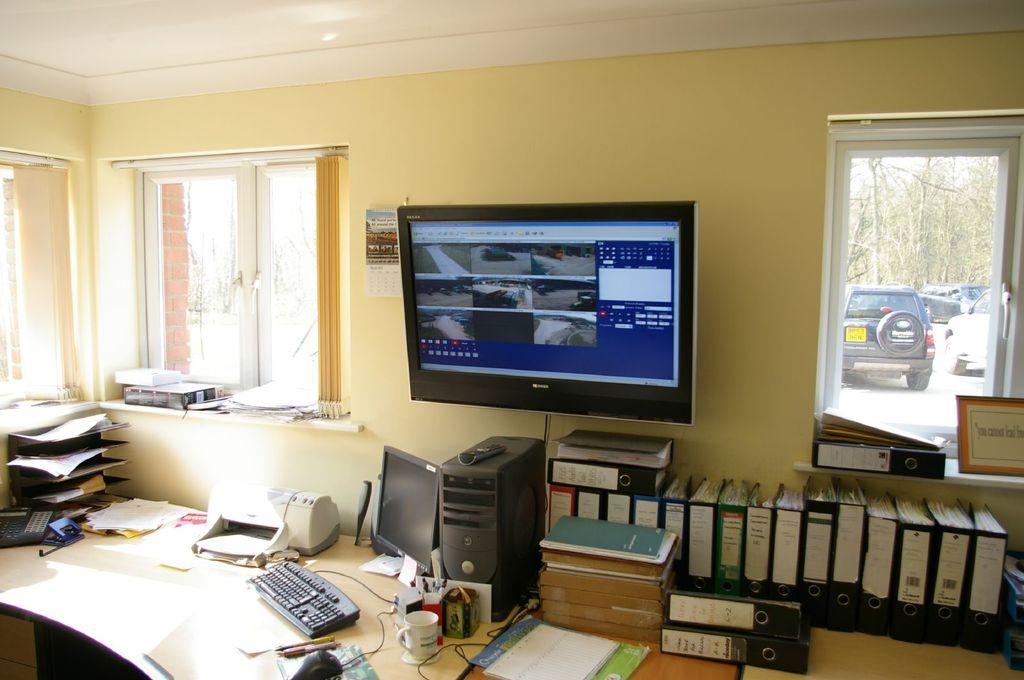Computer-monitor: (374, 452, 433, 585)
